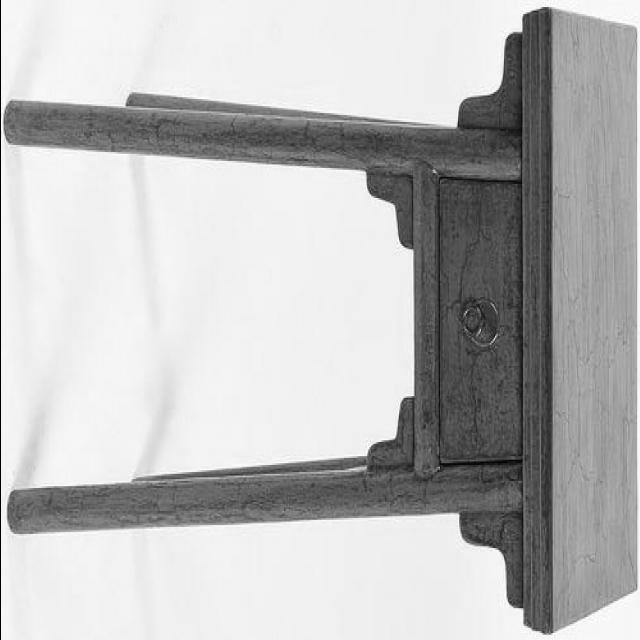table: (6, 7, 639, 640)
